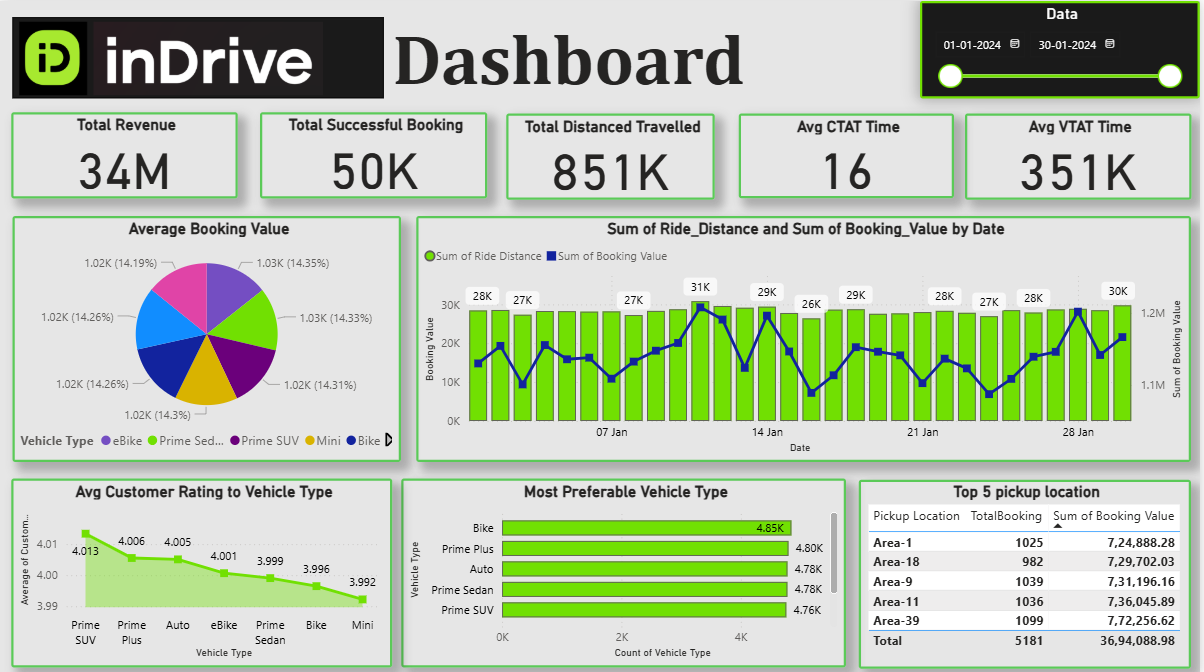

This screenshot's page, from the dashboard's own definition file:
{"tool":"powerbi","page":{"name":"Page 1","canvas":[1280,720],"ordinal":0},"visuals":[{"type":"pieChart","title":"Average Booking Value","fields":{"Category":["Bengaluru_inDrive_Booking_Data_01.Vehicle Type"],"Y":["Avg(Bengaluru_inDrive_Booking_Data_01.Booking Value)"]},"box":[13.3,229.3,414.7,262.7],"z":0},{"type":"lineStackedColumnComboChart","title":"Sum of Ride_Distance and Sum of Booking_Value by Date","fields":{"Category":["Bengaluru_inDrive_Booking_Data_01.Date"],"Y":["Sum(Bengaluru_inDrive_Booking_Data_01.Ride Distance)"],"Y2":["Sum(Bengaluru_inDrive_Booking_Data_01.Booking Value)"]},"box":[444,229.3,826.7,262.7],"z":1000},{"type":"slicer","title":"Data","fields":{"Values":["Bengaluru_inDrive_Booking_Data_01.Date"]},"box":[981.3,0,298.7,104],"z":2000},{"type":"clusteredBarChart","title":"Most Preferable Vehicle Type","fields":{"Category":["Bengaluru_inDrive_Booking_Data_01.Vehicle Type"],"Y":["CountNonNull(Bengaluru_inDrive_Booking_Data_01.Vehicle Type)"]},"box":[428,509.3,474.7,201.3],"z":3000},{"type":"tableEx","title":"Top 5 pickup location ","fields":{"Values":["Bengaluru_inDrive_Booking_Data_01.Pickup Location","Bengaluru_inDrive_Booking_Data_01.TotalBooking","Sum(Bengaluru_inDrive_Booking_Data_01.Booking Value)"]},"box":[916,510.7,354.7,201.3],"z":4000},{"type":"lineChart","title":"Avg Customer Rating to Vehicle Type","fields":{"Category":["Bengaluru_inDrive_Booking_Data_01.Vehicle Type"],"Y":["Avg(Bengaluru_inDrive_Booking_Data_01.Customer Rating)"]},"box":[12,509.3,406.7,201.3],"z":5000},{"type":"card","title":"Total Revenue","fields":{"Values":["Sum(Bengaluru_inDrive_Booking_Data_01.Booking Value)"]},"box":[12,118.7,241.3,92],"z":6000},{"type":"card","title":"Total Successful Booking","fields":{"Values":["CountNonNull(Bengaluru_inDrive_Booking_Data_01.Booking ID)"]},"box":[277.3,118.7,242.7,92],"z":7000},{"type":"card","title":"Total Distanced Travelled","fields":{"Values":["Sum(Bengaluru_inDrive_Booking_Data_01.Ride Distance)"]},"box":[540,120,222.7,92],"z":8000},{"type":"card","title":"Avg CTAT Time","fields":{"Values":["Avg(Bengaluru_inDrive_Booking_Data_01.Avg CTAT)"]},"box":[788,120,229.3,90.7],"z":9000},{"type":"card","title":"Avg VTAT Time","fields":{"Values":["Sum(Bengaluru_inDrive_Booking_Data_01.Avg VTAT)"]},"box":[1029.3,120,241.3,92],"z":10000},{"type":"textbox","box":[13.3,17.3,396,86.7],"z":11000},{"type":"image","box":[13.3,17.3,338.7,88],"z":12000},{"type":"textbox","title":"Dashboard","box":[413.3,17.3,420,86.7],"z":13000}]}

Visuals, with their boxes in screenshot pixels (x1, y1, x2, y2), scaled from the page's 1280x720 canvas onto the 1204x672 screenshot:
"Average Booking Value" pieChart: <region>13, 214, 403, 459</region>
"Sum of Ride_Distance and Sum of Booking_Value by Date" lineStackedColumnComboChart: <region>418, 214, 1195, 459</region>
"Data" slicer: <region>923, 0, 1203, 97</region>
"Most Preferable Vehicle Type" clusteredBarChart: <region>403, 475, 849, 663</region>
"Top 5 pickup location " tableEx: <region>862, 477, 1195, 665</region>
"Avg Customer Rating to Vehicle Type" lineChart: <region>11, 475, 394, 663</region>
"Total Revenue" card: <region>11, 111, 238, 197</region>
"Total Successful Booking" card: <region>261, 111, 489, 197</region>
"Total Distanced Travelled" card: <region>508, 112, 717, 198</region>
"Avg CTAT Time" card: <region>741, 112, 957, 197</region>
"Avg VTAT Time" card: <region>968, 112, 1195, 198</region>
textbox: <region>13, 16, 385, 97</region>
image: <region>13, 16, 331, 98</region>
"Dashboard" textbox: <region>389, 16, 784, 97</region>
